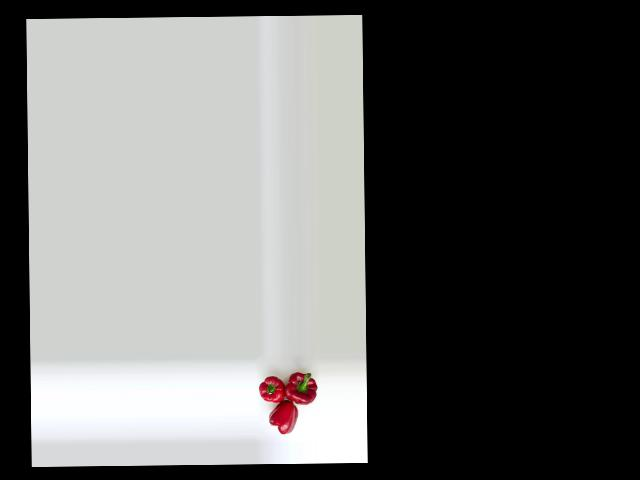bell_pepper: (263, 399, 301, 438)
